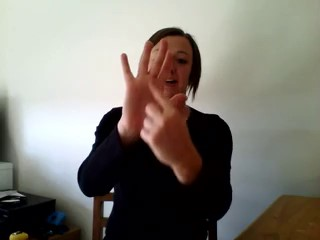J: (105, 36, 198, 172)
